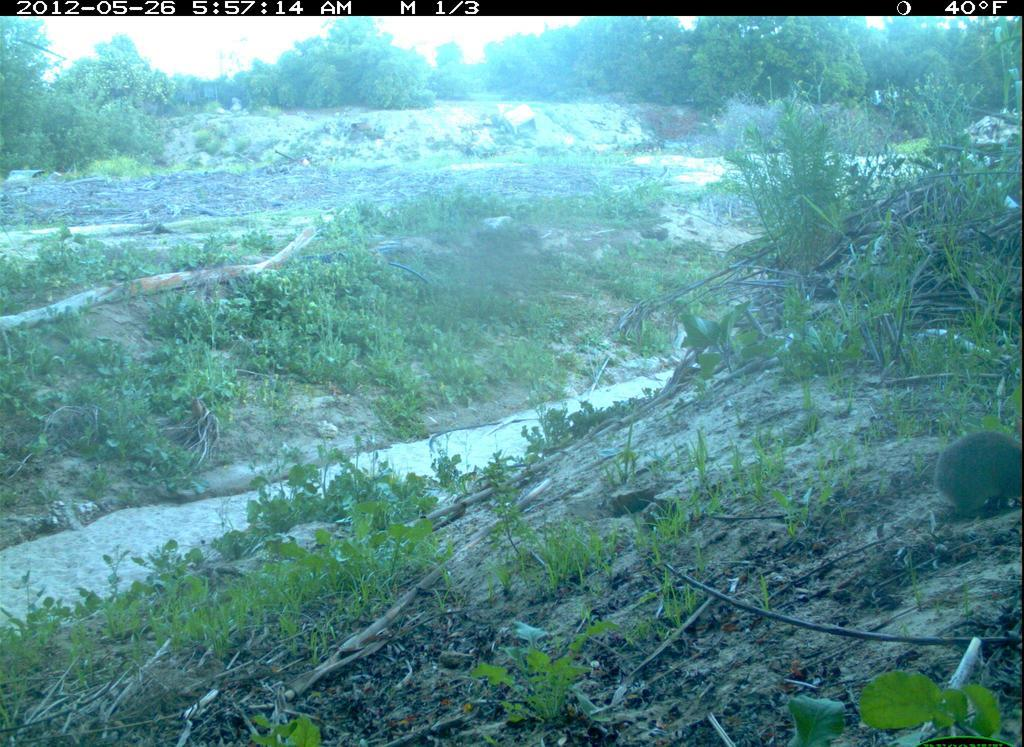rabbit: (934, 420, 1017, 525)
